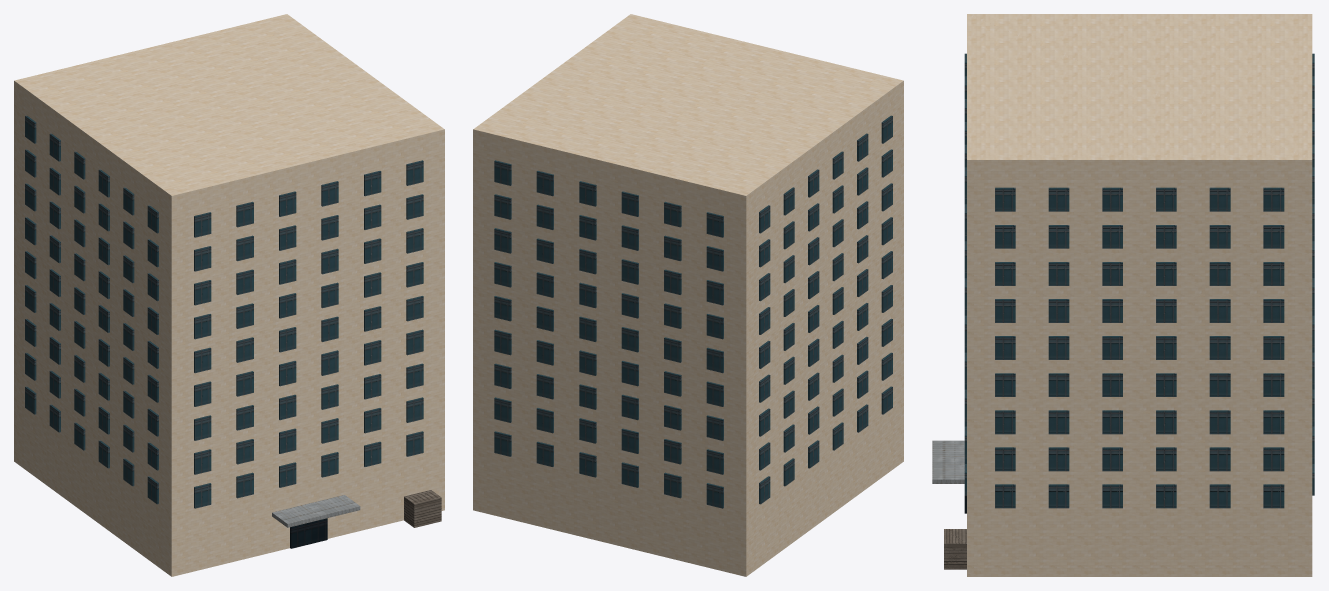
The model's file is corner-office_lod0.gltf.
3 views of the same model, side by side, from view 1: azimuth 30°, elevation 25°; view 2: azimuth 150°, elevation 25°; view 3: azimuth 270°, elevation 25° (orthographic). The views are drawn at different scales.
Parts seen in each view (by area): view 1: corner-office_main, corner-office_fen_07-glass-curtain-blue_0, corner-office__canopy, corner-office__newsstand, corner-office_fen_07-glass-curtain-blue_1_t; view 2: corner-office_main, corner-office_fen_07-glass-curtain-blue_0; view 3: corner-office_main, corner-office_fen_07-glass-curtain-blue_0, corner-office__canopy, corner-office__newsstand.
Part boxes in pixels (x1=…): corner-office_main: x1=14, y1=14, x2=444, y2=576; corner-office_fen_07-glass-curtain-blue_0: x1=25, y1=115, x2=423, y2=508; corner-office__canopy: x1=272, y1=495, x2=360, y2=527; corner-office__newsstand: x1=404, y1=490, x2=441, y2=527; corner-office_fen_07-glass-curtain-blue_1_t: x1=290, y1=518, x2=327, y2=548; corner-office_main: x1=473, y1=14, x2=903, y2=576; corner-office_fen_07-glass-curtain-blue_0: x1=494, y1=115, x2=892, y2=508; corner-office_main: x1=967, y1=14, x2=1312, y2=576; corner-office_fen_07-glass-curtain-blue_0: x1=964, y1=53, x2=1314, y2=508; corner-office__canopy: x1=932, y1=440, x2=964, y2=483; corner-office__newsstand: x1=944, y1=529, x2=966, y2=569.
Size of the model in its own units: 30.4 by 40 by 33.2.
